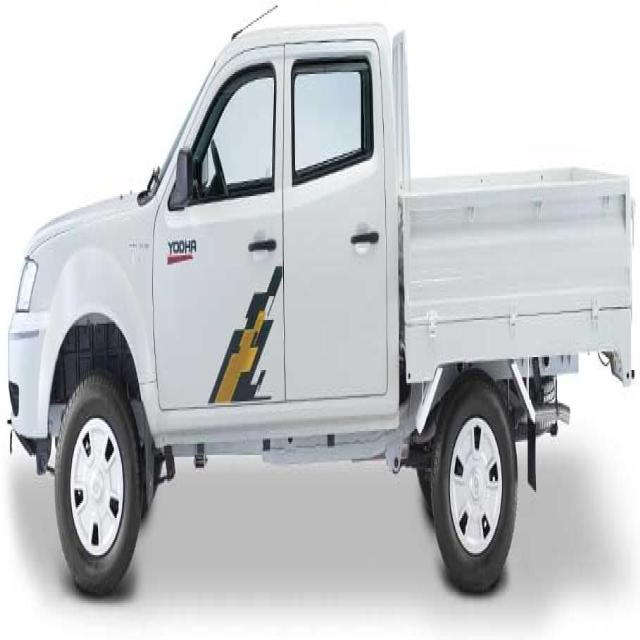truck: (8, 26, 634, 593)
